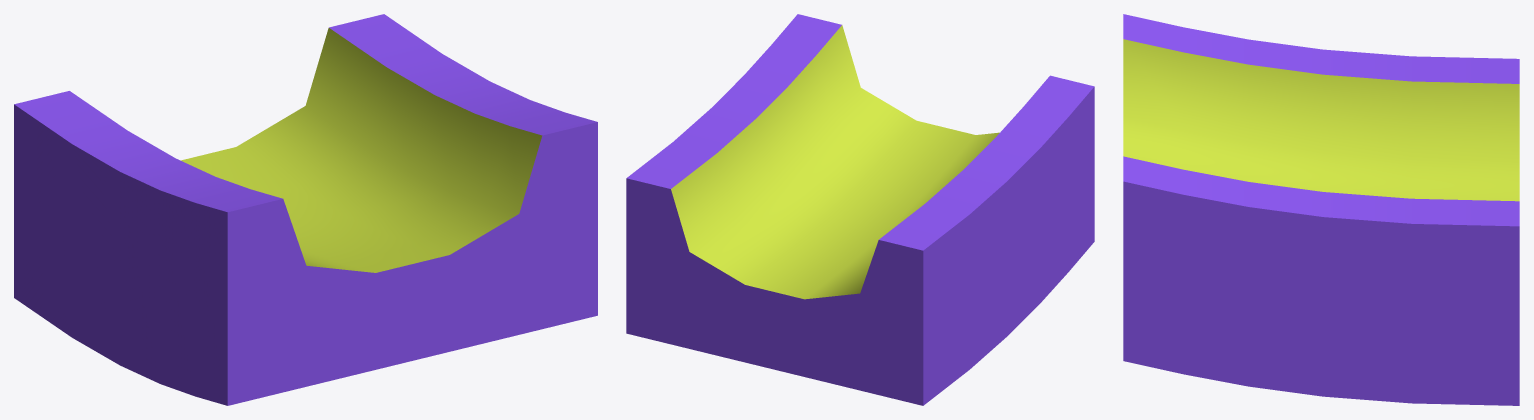
File: rampStart_A.fbx
3 views of the same model, side by side, from view 1: azimuth 30°, elevation 25°; view 2: azimuth 150°, elevation 25°; view 3: azimuth 270°, elevation 25° (orthographic). The views are drawn at different scales.
Visible parts, largest first — view 1: rampStart_A; view 2: rampStart_A; view 3: rampStart_A.
Boxes of the visible parts, box(x1,y1,x2,y2) form: rampStart_A: box(14, 14, 597, 405); rampStart_A: box(626, 14, 1094, 405); rampStart_A: box(1123, 14, 1519, 405).
Bounding box in the file's own units: 10 × 6.25 × 10.
